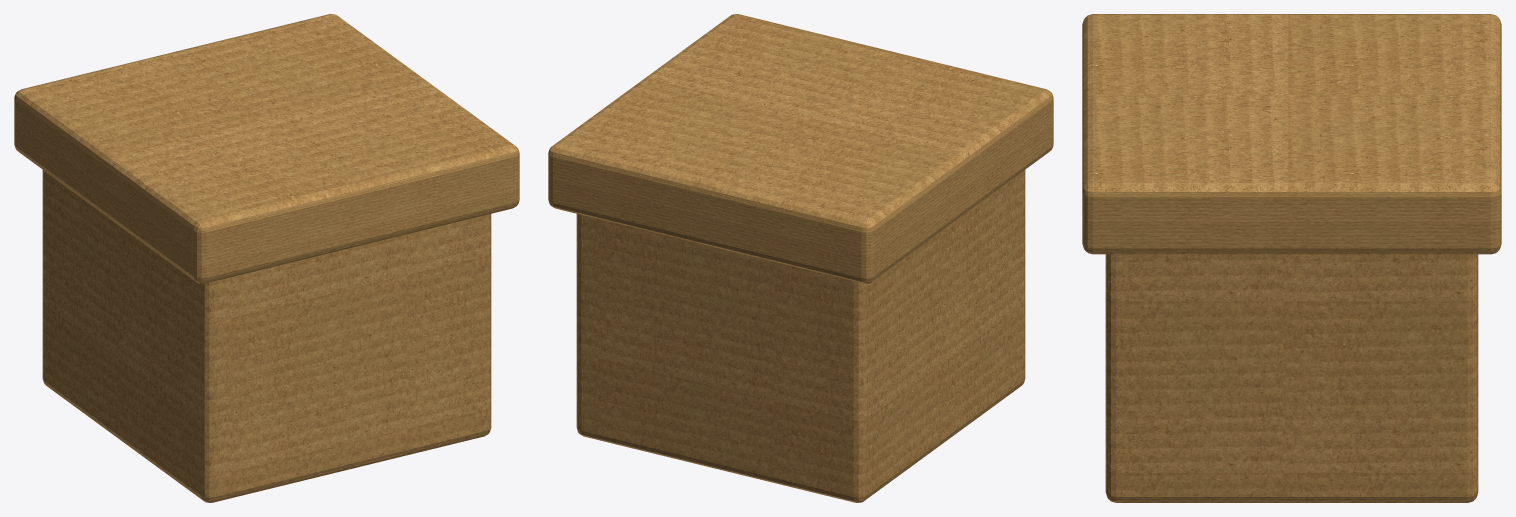
Rendered from CAJA_INTERACTIVA.fbx.
The picture shows the model from 3 angles, left to right: view 1: azimuth 30°, elevation 25°; view 2: azimuth 150°, elevation 25°; view 3: azimuth 270°, elevation 25°; orthographic projection. The views are drawn at different scales.
Visible parts, largest first — view 1: Caja_Base, Caja_Tapa; view 2: Caja_Base, Caja_Tapa; view 3: Caja_Tapa, Caja_Base.
Boxes of the visible parts, box(x1,y1,x2,y2) form: Caja_Base: box(42, 170, 491, 502); Caja_Tapa: box(14, 14, 519, 283); Caja_Base: box(576, 170, 1025, 502); Caja_Tapa: box(548, 14, 1053, 283); Caja_Tapa: box(1082, 14, 1501, 254); Caja_Base: box(1105, 254, 1478, 502).
Size of the model in its own units: 118 by 102 by 118.
1 material, 1 textured.
